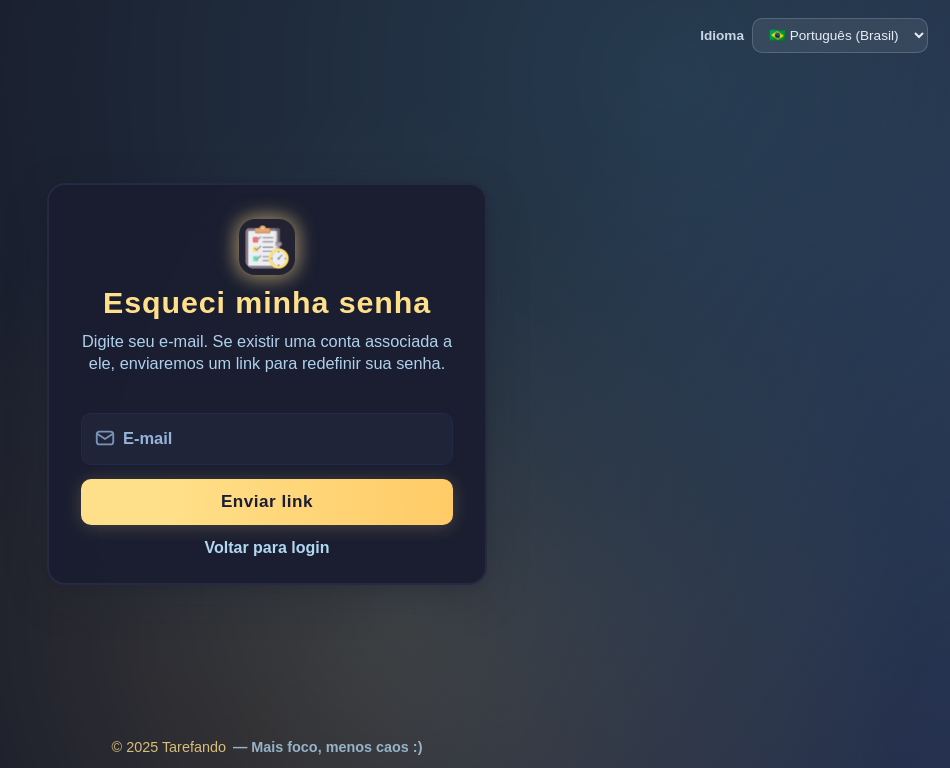
Test: Acesso › deve bloquear novo envio por alguns segundos no esqueci minha senha
Type "user@teste.com" into the field with test id "forgot-email" at point(267, 439), box [81, 413, 453, 465]
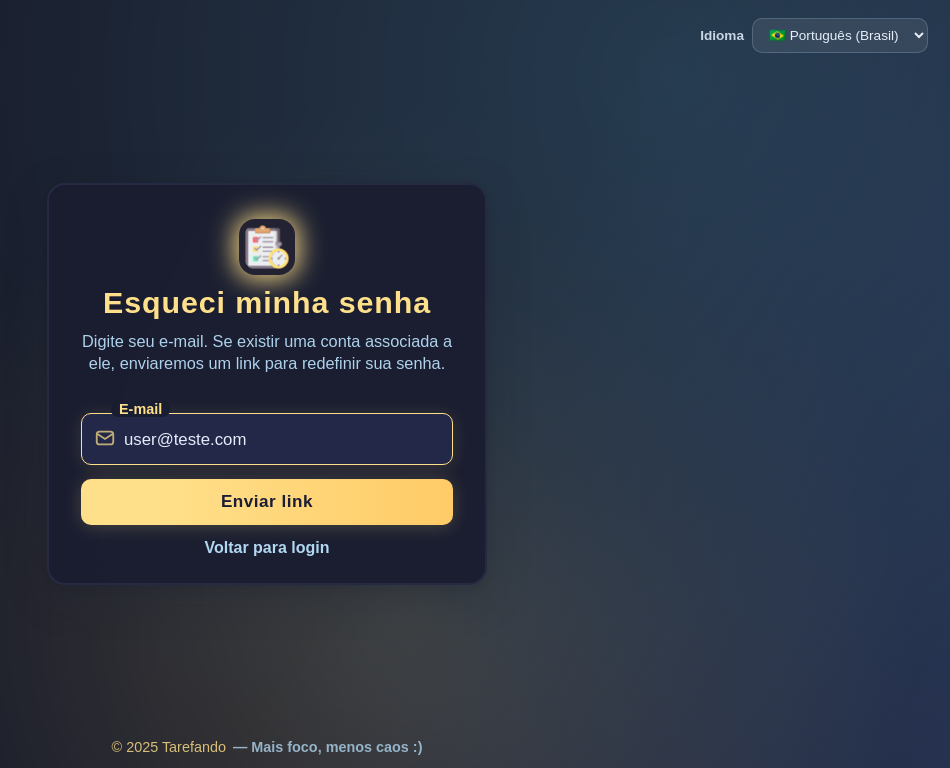
Click the button with test id "forgot-submit" at point(267, 502), box [81, 479, 453, 525]
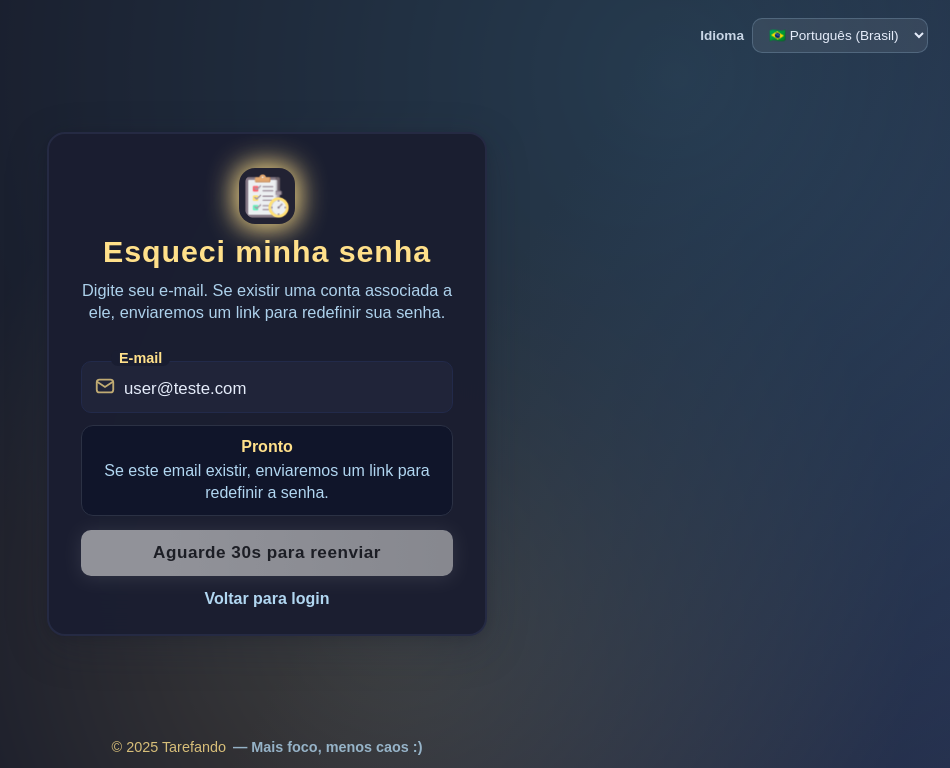
Now the text with test id "forgot-info" shows "Se este email existir", box [104, 462, 429, 501]
Now the button with test id "forgot-submit" is disabled, box [81, 530, 453, 576]
